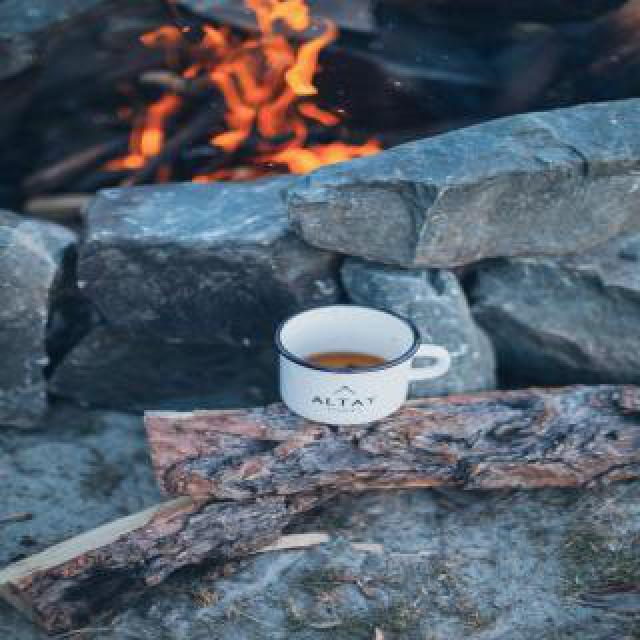fire: (113, 0, 357, 180)
